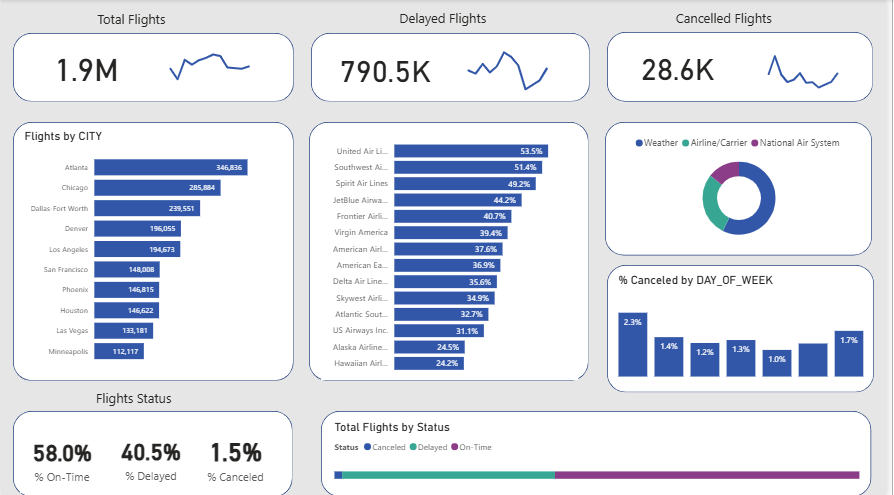

This screenshot's page, from the dashboard's own definition file:
{"tool":"powerbi","page":{"name":"Page 1","canvas":[1280,720],"ordinal":0},"visuals":[{"type":"shape","box":[17.3,49,406.1,99.4],"z":0},{"type":"shape","box":[447.8,49,403.2,99.4],"z":1000},{"type":"shape","box":[875.5,47.5,384.5,100.8],"z":2000},{"type":"shape","box":[17.1,177.1,405.7,374.3],"z":3000},{"type":"shape","box":[17.1,595.7,404.3,124.3],"z":4000},{"type":"shape","box":[462.5,596,795.5,123.9],"z":5000},{"type":"shape","box":[872.6,177.1,385.9,193],"z":6000},{"type":"shape","box":[875.5,384.5,385.9,184.3],"z":7000},{"type":"shape","box":[445.7,177.1,404.3,374.3],"z":8000},{"type":"card","fields":{"Values":["flights.Total Flights"]},"box":[28.8,56.2,188.6,82.1],"z":9000},{"type":"lineChart","fields":{"Category":["flights.MONTH"],"Y":["flights.Total Flights"]},"box":[220.3,56.2,184.3,82.1],"z":10000},{"type":"card","fields":{"Values":["flights.Delayed Flights"]},"box":[462.9,60,185.7,78.6],"z":11000},{"type":"lineChart","fields":{"Category":["flights.MONTH"],"Y":["flights.Delayed Flights"]},"box":[650,60,184.3,78.6],"z":12000},{"type":"lineChart","fields":{"Category":["flights.MONTH"],"Y":["flights.Canceled Flights"]},"box":[1085.7,55.7,165.7,82.9],"z":13000},{"type":"card","fields":{"Values":["flights.Canceled Flights"]},"box":[887.1,55.7,181.4,82.9],"z":14000},{"type":"textbox","box":[121.4,11.4,134.3,37.1],"z":15000},{"type":"textbox","box":[557.1,10,164.3,37.1],"z":16000},{"type":"textbox","box":[961.4,10,167.1,37.1],"z":17000},{"type":"card","fields":{"Values":["flights.% On-Time"]},"box":[27.1,614.3,121.4,100],"z":18000},{"type":"card","fields":{"Values":["flights.% Delayed"]},"box":[157.1,612.9,118.6,100],"z":19000},{"type":"card","fields":{"Values":["flights.% Canceled"]},"box":[277.1,614.3,122.9,95.7],"z":20000},{"type":"textbox","box":[122.9,560,132.9,35.7],"z":21000},{"type":"textbox","box":[28.8,739.2,100.8,38.4],"z":22000},{"type":"textbox","box":[148.8,739.2,97.6,38.4],"z":23000},{"type":"textbox","box":[276.8,740.8,115.2,36.8],"z":24000},{"type":"barChart","title":"Flights by CITY","fields":{"Category":["airports.CITY"],"Y":["flights.Total Flights"]},"box":[28.6,188.6,375.7,350],"z":25000},{"type":"barChart","fields":{"Y":["flights.% Delayed"],"Category":["airlines.AIRLINE"]},"box":[462.2,188.6,371.5,362.9],"z":26000},{"type":"donutChart","fields":{"Category":["cancellation_codes.CANCELLATION_DESCRIPTION"],"Y":["Sum(flights.CANCELLED)"]},"box":[887,188.6,358.6,171.4],"z":27000},{"type":"columnChart","fields":{"Category":["flights.DAY_OF_WEEK"],"Y":["flights.% Canceled"]},"box":[887.1,395.7,364.3,155.7],"z":28000},{"type":"hundredPercentStackedBarChart","fields":{"Y":["flights.Total Flights"],"Series":["flights.Status"]},"box":[476.6,609.1,769,105.1],"z":29000}]}

Visuals, with their boxes in screenshot pixels (x1, y1, x2, y2), scaled from the page's 1280x720 canvas onto the 894x495 screenshot:
shape: rect(12, 34, 296, 102)
shape: rect(313, 34, 594, 102)
shape: rect(611, 33, 880, 102)
shape: rect(12, 122, 295, 379)
shape: rect(12, 410, 294, 494)
shape: rect(323, 410, 879, 494)
shape: rect(609, 122, 879, 254)
shape: rect(611, 264, 881, 391)
shape: rect(311, 122, 594, 379)
card - flights.Total Flights: rect(20, 39, 152, 95)
lineChart - flights.MONTH x flights.Total Flights: rect(154, 39, 283, 95)
card - flights.Delayed Flights: rect(323, 41, 453, 95)
lineChart - flights.MONTH x flights.Delayed Flights: rect(454, 41, 583, 95)
lineChart - flights.MONTH x flights.Canceled Flights: rect(758, 38, 874, 95)
card - flights.Canceled Flights: rect(620, 38, 746, 95)
textbox: rect(85, 8, 179, 33)
textbox: rect(389, 7, 504, 32)
textbox: rect(671, 7, 788, 32)
card - flights.% On-Time: rect(19, 422, 104, 491)
card - flights.% Delayed: rect(110, 421, 193, 490)
card - flights.% Canceled: rect(194, 422, 279, 488)
textbox: rect(86, 385, 179, 410)
"Flights by CITY" barChart: rect(20, 130, 282, 370)
barChart - flights.% Delayed x airlines.AIRLINE: rect(323, 130, 582, 379)
donutChart - cancellation_codes.CANCELLATION_DESCRIPTION x Sum(flights.CANCELLED): rect(620, 130, 870, 248)
columnChart - flights.DAY_OF_WEEK x flights.% Canceled: rect(620, 272, 874, 379)
hundredPercentStackedBarChart - flights.Total Flights x flights.Status: rect(333, 419, 870, 491)
